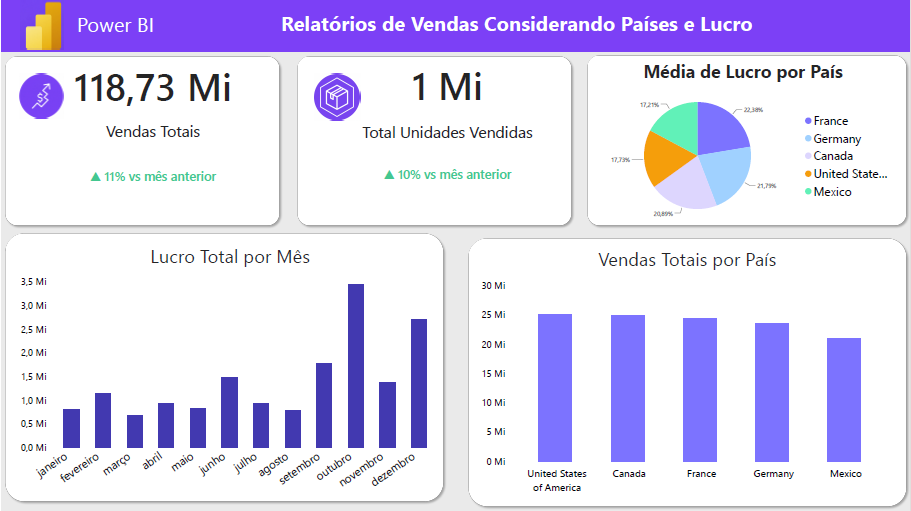

What the dashboard file says about the page in this screenshot:
{"tool":"powerbi","page":{"name":"Página 2","canvas":[1920,1080],"ordinal":1},"visuals":[{"type":"shape","box":[0,111.6,596.4,375.4],"z":0},{"type":"shape","box":[0,0,1920,110.9],"z":1000},{"type":"textbox","box":[158.7,22.7,269.6,88.2],"z":2000},{"type":"textbox","box":[589.6,20.2,1043.1,68],"z":3000},{"type":"image","box":[0,2.5,168.8,103.3],"z":4000},{"type":"shape","box":[615.7,111.6,596.4,375.4],"z":5000},{"type":"cardVisual","fields":{"Data":["Sum(financials. Sales)"]},"box":[83.7,113.7,472,403.3],"z":6000},{"type":"image","box":[23.6,156.6,120.1,94.4],"z":7000},{"type":"cardVisual","fields":{"Data":["financials.Total Units"]},"box":[727.1,112.7,429.4,403.9],"z":8000},{"type":"image","box":[645.7,156.6,126.6,98.7],"z":9000},{"type":"shape","box":[1228.8,110.6,690.9,376.3],"z":10000},{"type":"pieChart","title":"Média de Lucro por País","fields":{"Category":["financials.Country"],"Y":["Avg(financials.Profit)"]},"box":[1229.6,113.4,672.8,385.5],"z":11000},{"type":"shape","box":[0,486.9,941.8,582.5],"z":12000},{"type":"shape","box":[978,497.5,941.8,582.5],"z":13000},{"type":"columnChart","title":"Lucro Total por Mês","fields":{"Category":["financials.Date.Variation.Hierarquia de datas.Ano","financials.Date.Variation.Hierarquia de datas.Mês"],"Y":["Sum(financials.Profit)"]},"box":[23.6,499.8,918.2,570.6],"z":14000},{"type":"columnChart","title":"Vendas Totais por País","fields":{"Category":["financials.Country"],"Y":["Sum(financials. Sales)"]},"box":[997.5,508.4,901,553.5],"z":15000}]}

Visuals, with their boxes in screenshot pixels (x1, y1, x2, y2), scaled from the page's 1920x1080 canvas onto the 911x511 screenshot:
shape: left=0, top=53, right=283, bottom=230
shape: left=0, top=0, right=910, bottom=52
textbox: left=75, top=11, right=203, bottom=52
textbox: left=280, top=10, right=775, bottom=42
image: left=0, top=1, right=80, bottom=50
shape: left=292, top=53, right=575, bottom=230
cardVisual - Sum(financials. Sales): left=40, top=54, right=264, bottom=245
image: left=11, top=74, right=68, bottom=119
cardVisual - financials.Total Units: left=345, top=53, right=549, bottom=244
image: left=306, top=74, right=366, bottom=121
shape: left=583, top=52, right=910, bottom=230
"Média de Lucro por País" pieChart: left=583, top=54, right=903, bottom=236
shape: left=0, top=230, right=447, bottom=506
shape: left=464, top=235, right=910, bottom=510
"Lucro Total por Mês" columnChart: left=11, top=236, right=447, bottom=506
"Vendas Totais por País" columnChart: left=473, top=241, right=901, bottom=502
